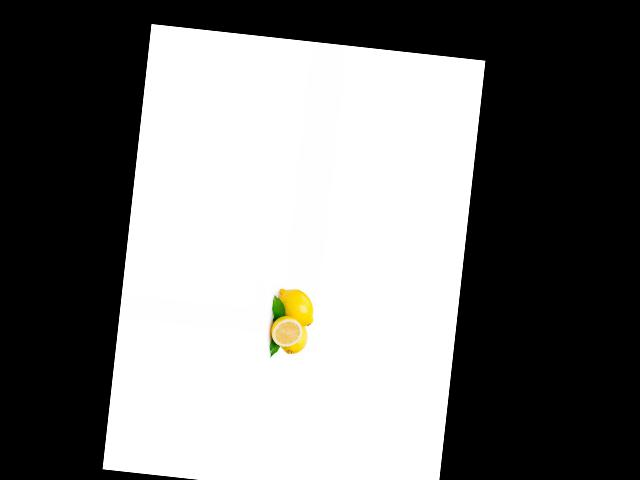lemon: (266, 313, 303, 347)
